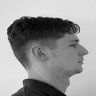ear: (27, 42, 54, 66)
